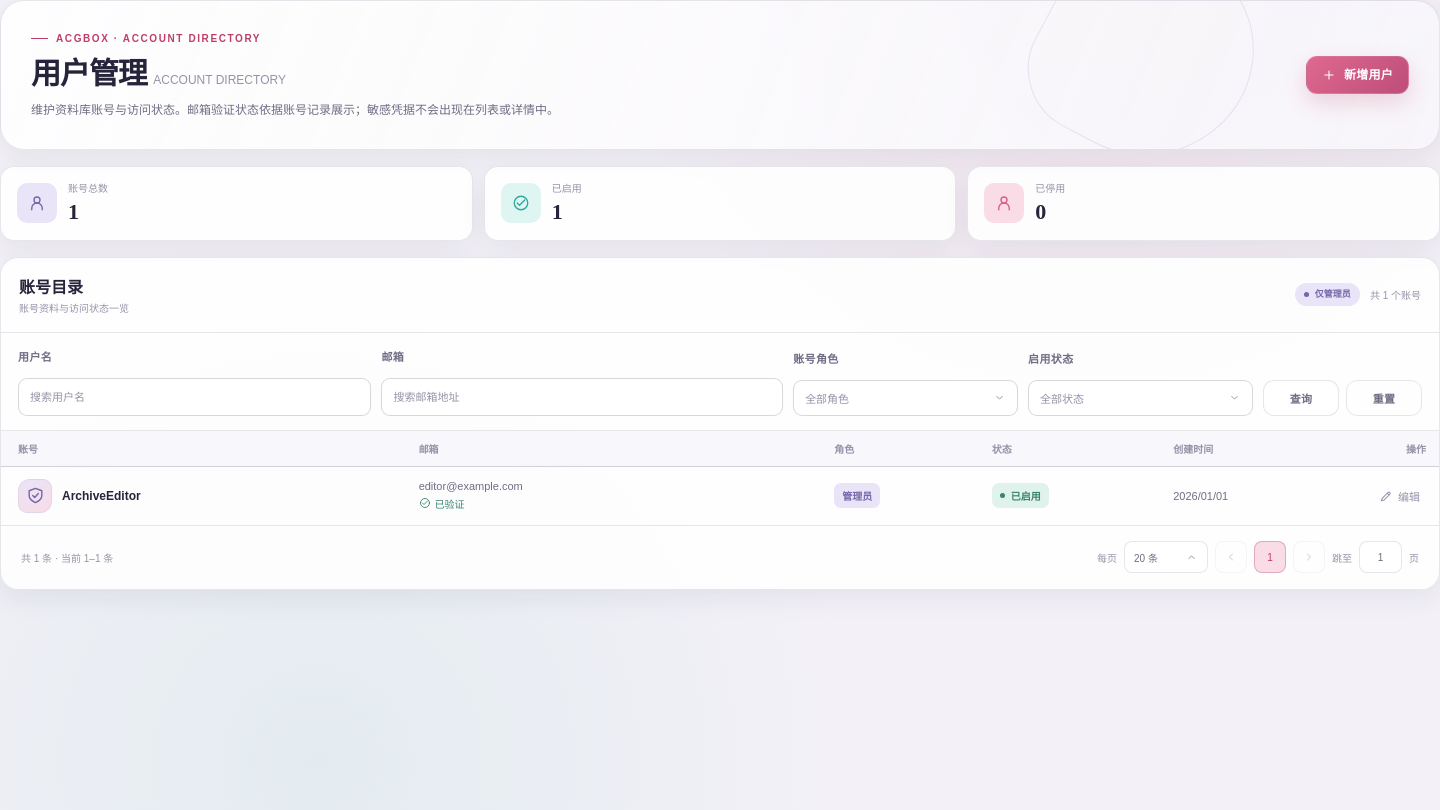
Test: 用户管理 › 管理员的角色和状态不可修改，不能删除，但可以重置密码
Click the button "编辑".
click(1400, 496)  # box [1373, 481, 1426, 510]
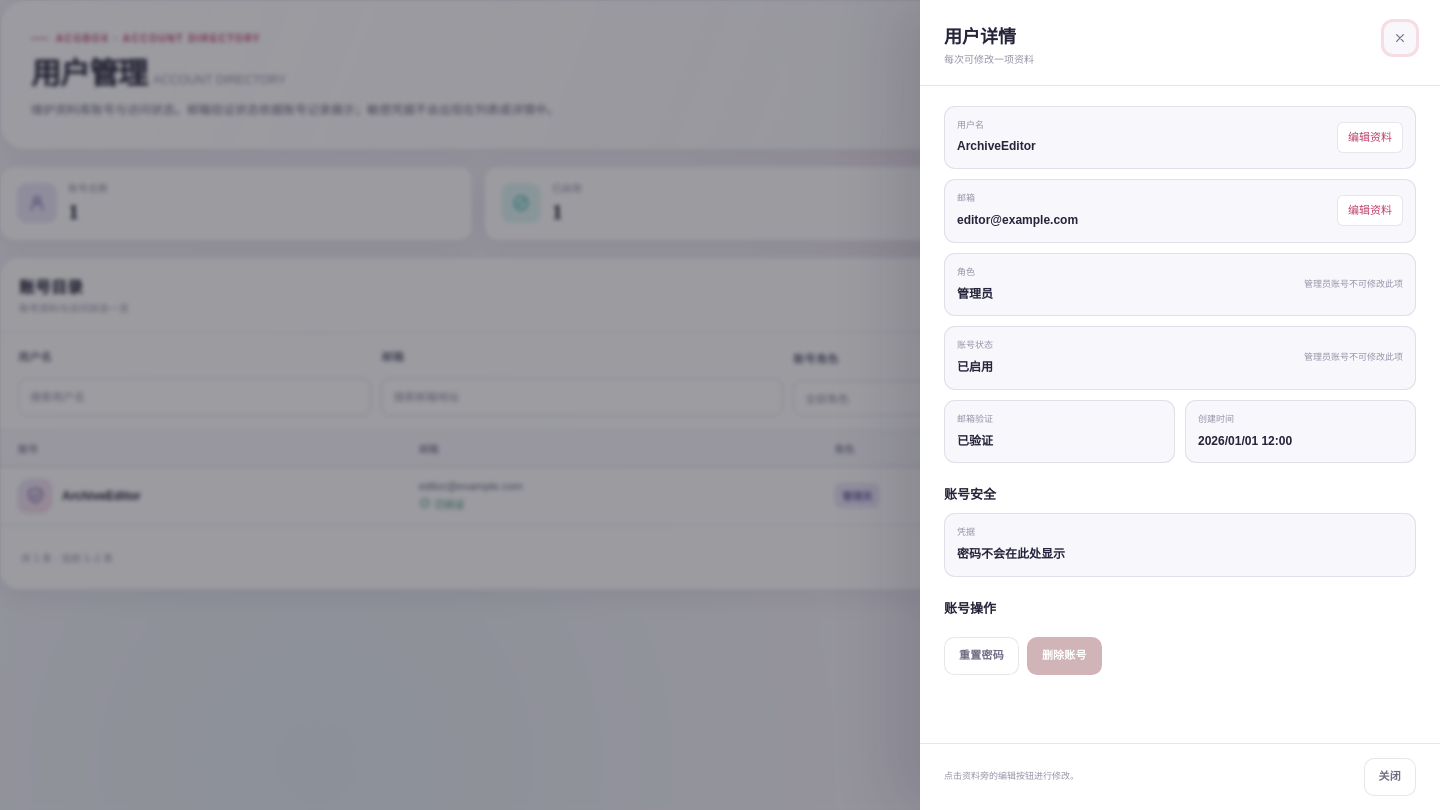
expect the button with class "danger-button" is disabled: met, box [1027, 637, 1102, 675]
Click the button with class "secondary-button" showing "重置密码".
click(981, 656)  # box [944, 637, 1019, 675]
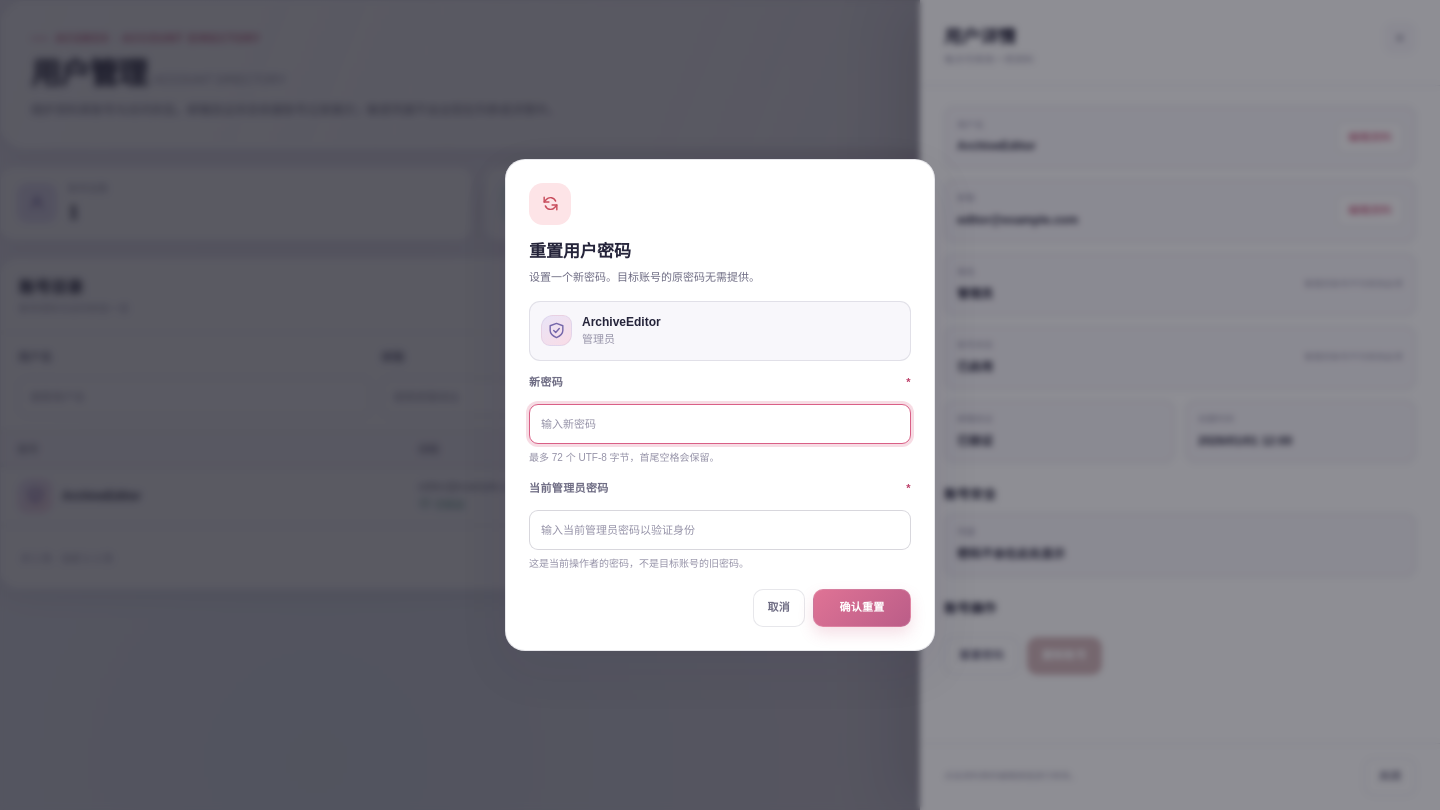
expect the heading with id "usersActionTitle" reads "重置用户密码": met, box [529, 242, 631, 261]
